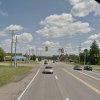Car: (42, 63, 54, 76)
